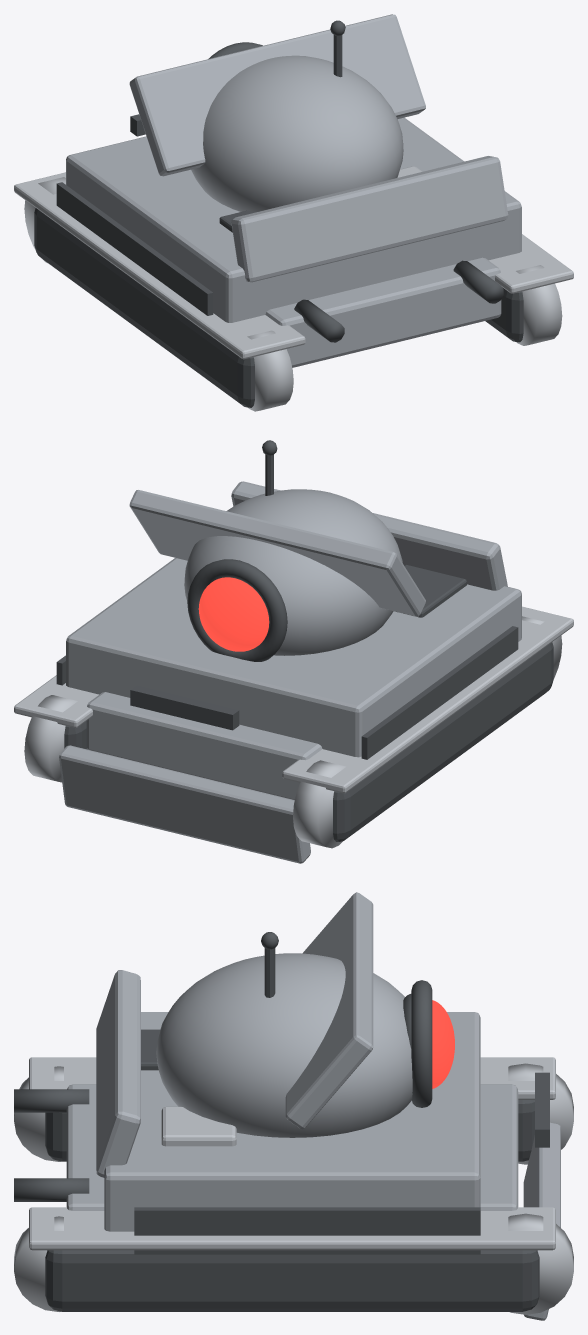
File: sentinel.glb
3 renders of one model, top to bottom at view 1: azimuth 30°, elevation 25°; view 2: azimuth 150°, elevation 25°; view 3: azimuth 270°, elevation 25°, orthographic. The views are drawn at different scales.
Parts seen in each view (by area): view 1: Hull, Dome, Rear, Glacis, Tub, Track_-1, Fender_-1, Skirt_-1, Fender_1, Idler_1, Idler_-1, Track_1 (+3 smaller); view 2: Hull, Dome, Nose, Tub, Glacis, Track_-1, Fender_-1, Rear, Skirt_-1, Eye, EyeRing, Sprocket_-1 (+4 smaller); view 3: Hull, Dome, Track_1, Fender_1, Skirt_1, Glacis, Tub, Rear, Fender_-1, Sprocket_1, Nose, EyeRing (+11 smaller).
Part boxes in pixels (bbox=[...]): Hull: bbox=[66, 117, 521, 322]; Dome: bbox=[191, 55, 403, 212]; Rear: bbox=[231, 156, 508, 282]; Glacis: bbox=[129, 14, 425, 176]; Tub: bbox=[265, 257, 501, 367]; Track_-1: bbox=[34, 208, 254, 407]; Fender_-1: bbox=[14, 172, 305, 359]; Skirt_-1: bbox=[56, 182, 213, 315]; Fender_1: bbox=[489, 234, 573, 293]; Idler_1: bbox=[516, 265, 562, 345]; Idler_-1: bbox=[247, 330, 293, 411]; Track_1: bbox=[485, 287, 523, 342]; Hull: bbox=[66, 558, 521, 757]; Dome: bbox=[184, 489, 402, 655]; Nose: bbox=[59, 745, 310, 863]; Tub: bbox=[86, 692, 322, 799]; Glacis: bbox=[129, 490, 425, 616]; Track_-1: bbox=[333, 642, 553, 841]; Fender_-1: bbox=[282, 606, 573, 793]; Rear: bbox=[231, 481, 507, 590]; Skirt_-1: bbox=[361, 626, 518, 759]; Eye: bbox=[198, 577, 269, 651]; EyeRing: bbox=[187, 559, 287, 661]; Sprocket_-1: bbox=[293, 760, 345, 848]; Hull: bbox=[104, 1012, 480, 1231]; Dome: bbox=[156, 953, 412, 1137]; Track_1: bbox=[45, 1250, 539, 1311]; Fender_1: bbox=[29, 1207, 555, 1250]; Skirt_1: bbox=[134, 1207, 480, 1254]; Glacis: bbox=[285, 892, 373, 1129]; Tub: bbox=[66, 1084, 518, 1210]; Rear: bbox=[96, 970, 140, 1177]; Fender_-1: bbox=[29, 1057, 555, 1099]; Sprocket_1: bbox=[508, 1213, 573, 1314]; Nose: bbox=[523, 1122, 560, 1320]; EyeRing: bbox=[411, 980, 432, 1107].
Bounding box in the file's own units: 2.92 × 2.51 × 3.72.
